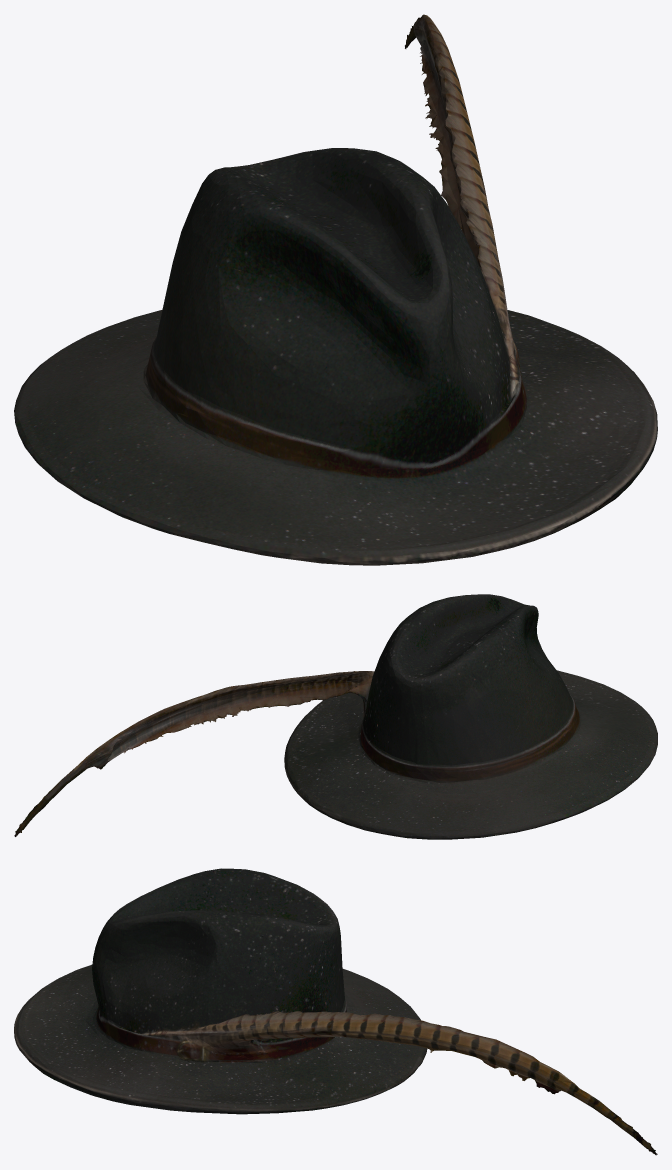
File: 115510A8-7CFA-7A4F-9469-949770CC86C9_2k.glb
3 renders of one model, top to bottom at view 1: azimuth 30°, elevation 25°; view 2: azimuth 150°, elevation 25°; view 3: azimuth 270°, elevation 25°, orthographic. The views are drawn at different scales.
Parts seen in each view (by area): view 1: Fasanenfederhut_7k_2k; view 2: Fasanenfederhut_7k_2k; view 3: Fasanenfederhut_7k_2k.
Part boxes in pixels (box(x1,y1,x2,y2)): Fasanenfederhut_7k_2k: box(14, 14, 657, 565); Fasanenfederhut_7k_2k: box(14, 594, 657, 839); Fasanenfederhut_7k_2k: box(14, 868, 657, 1155).
Size of the model in its own units: 0.3934 by 0.1381 by 0.5159.
Materials: 1 (1 with a texture image).
